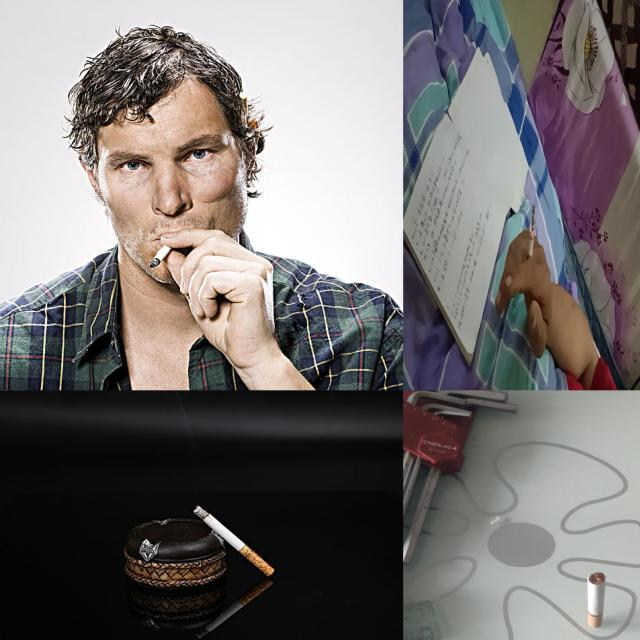smoking: (191, 502, 276, 576), (192, 578, 278, 637), (588, 572, 606, 629), (526, 204, 536, 271), (148, 246, 174, 270)
